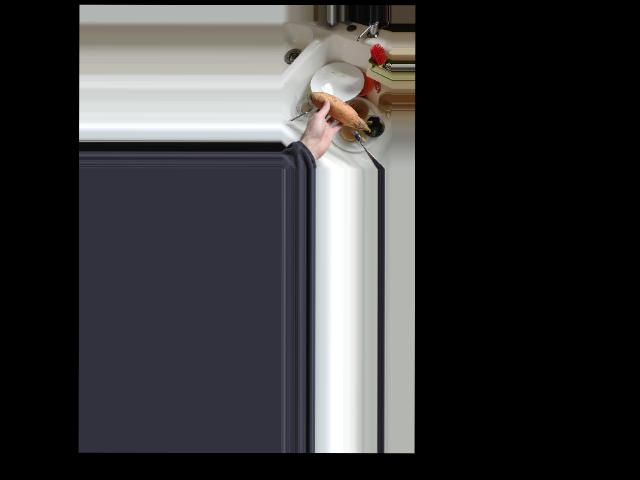sweet_potato: (308, 89, 369, 133)
